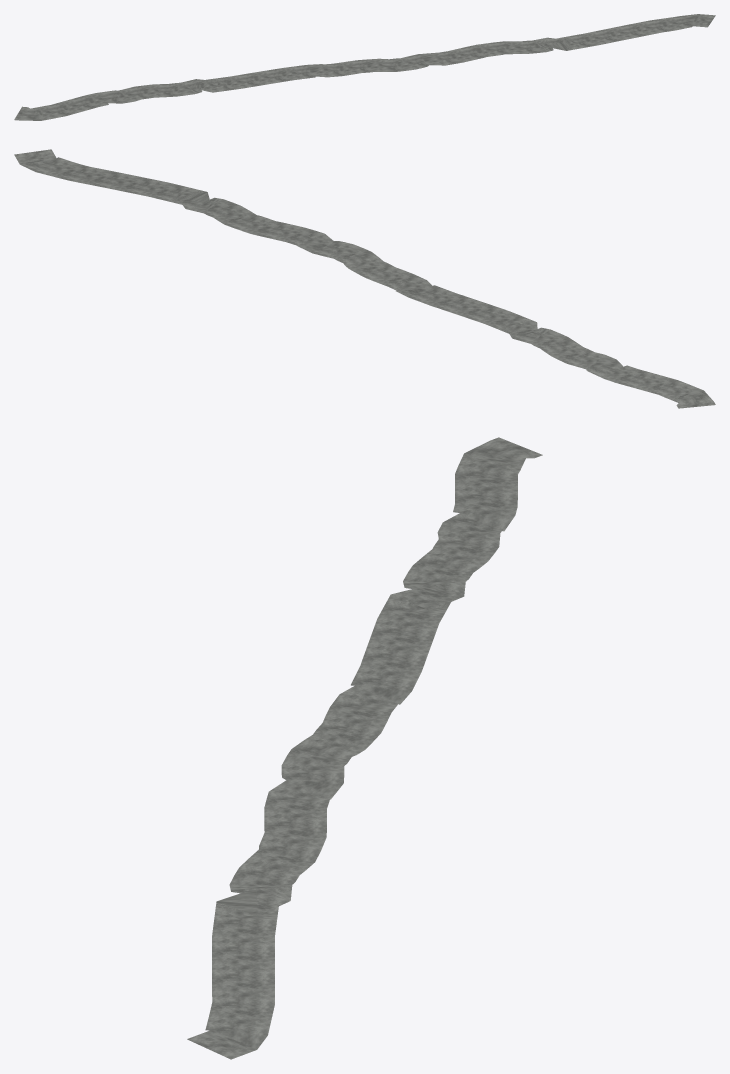
The model's file is RD-ROAD-013.obj.
3 views of the same model, one above another, from view 1: azimuth 30°, elevation 25°; view 2: azimuth 150°, elevation 25°; view 3: azimuth 270°, elevation 25° (orthographic). The views are drawn at different scales.
Parts seen in each view (by area): view 1: RD-ROAD-013; view 2: RD-ROAD-013; view 3: RD-ROAD-013.
Part boxes in pixels (x1,y1,x2,y2): RD-ROAD-013: (14, 14, 715, 120); RD-ROAD-013: (14, 149, 715, 408); RD-ROAD-013: (187, 437, 542, 1059).
Bounding box in the file's own units: 99.1 × 1.15 × 24.1.
Materials: 1 (1 with a texture image).
